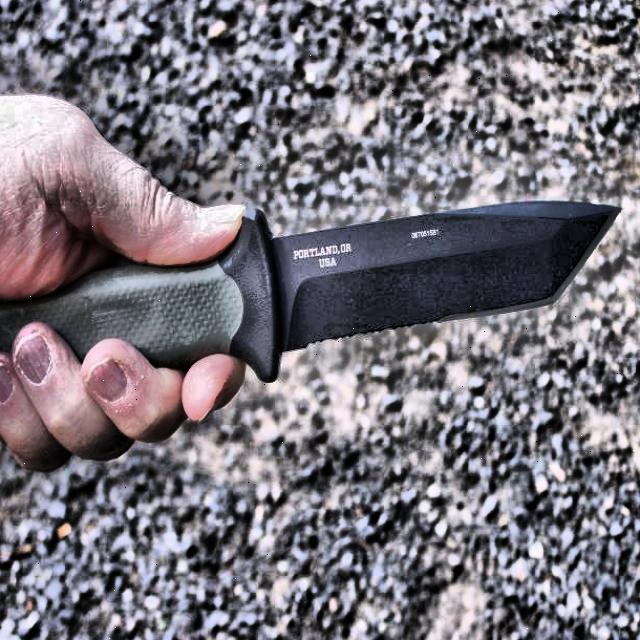knife: (0, 199, 620, 428)
